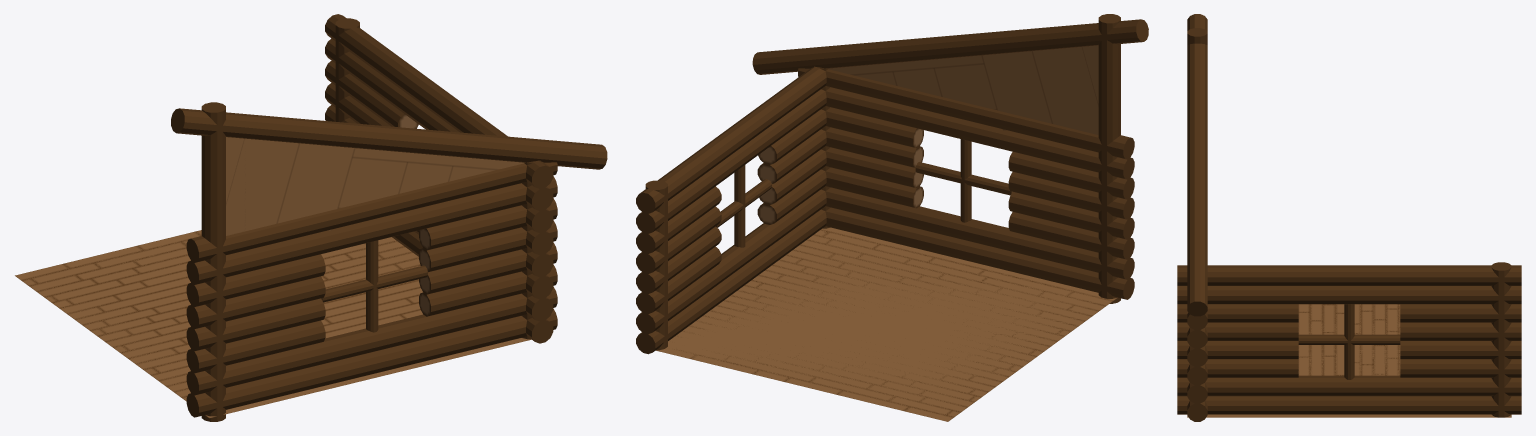
The model's file is startroom.fbx.
3 renders of one model, left to right at view 1: azimuth 30°, elevation 25°; view 2: azimuth 150°, elevation 25°; view 3: azimuth 270°, elevation 25°, orthographic. The views are drawn at different scales.
Visible parts, largest first — view 1: cube, cylinder_12, cylinder_5, cylinder_4, cylinder_6, cylinder_3, cylinder_11, cylinder_2, cube_6, cube_5, cylinder_7, cylinder_17 (+22 smaller); view 2: cube, cylinder_12, cylinder_5, cylinder_4, cylinder_6, cylinder_3, cylinder_11, cylinder_2, cube_6, cylinder_9, cylinder_7, cylinder_10 (+26 smaller); view 3: cube, cylinder_11, cylinder_9, cylinder_10, cylinder_12, cylinder_7, cylinder_8, cylinder_15, cylinder_14, cylinder_13, cylinder_27, cylinder_25 (+11 smaller).
Boxes of the visible parts, x1,y1,x2,y2 form: cube: [15, 230, 531, 418]; cylinder_12: [171, 108, 607, 169]; cylinder_5: [186, 286, 557, 395]; cylinder_4: [186, 309, 557, 417]; cylinder_6: [186, 176, 557, 284]; cylinder_3: [186, 162, 557, 262]; cylinder_11: [325, 14, 553, 188]; cylinder_2: [201, 102, 225, 421]; cube_6: [226, 138, 299, 235]; cube_5: [277, 143, 354, 230]; cylinder_7: [325, 38, 553, 210]; cylinder_17: [186, 276, 325, 329]; cube: [656, 227, 1116, 421]; cylinder_12: [752, 19, 1148, 74]; cylinder_5: [825, 187, 1134, 279]; cylinder_4: [825, 207, 1134, 299]; cylinder_6: [825, 87, 1134, 179]; cylinder_3: [798, 68, 1134, 159]; cylinder_11: [636, 67, 826, 213]; cylinder_2: [1098, 14, 1120, 303]; cube_6: [1032, 46, 1098, 134]; cylinder_9: [636, 189, 826, 333]; cylinder_7: [636, 89, 826, 233]; cylinder_10: [636, 209, 826, 354]; cube: [1187, 304, 1511, 417]; cylinder_11: [1177, 265, 1521, 285]; cylinder_9: [1177, 375, 1521, 396]; cylinder_10: [1177, 396, 1521, 414]; cylinder_12: [1187, 14, 1207, 316]; cylinder_7: [1177, 286, 1521, 304]; cylinder_8: [1400, 341, 1521, 359]; cylinder_15: [1400, 359, 1521, 377]; cylinder_14: [1400, 304, 1521, 322]; cylinder_13: [1400, 322, 1521, 340]; cylinder_27: [1177, 359, 1298, 377]; cylinder_25: [1177, 322, 1298, 340].
Bounding box in the file's own units: 127 × 89.22 × 106.
Materials: 1 (1 with a texture image).
